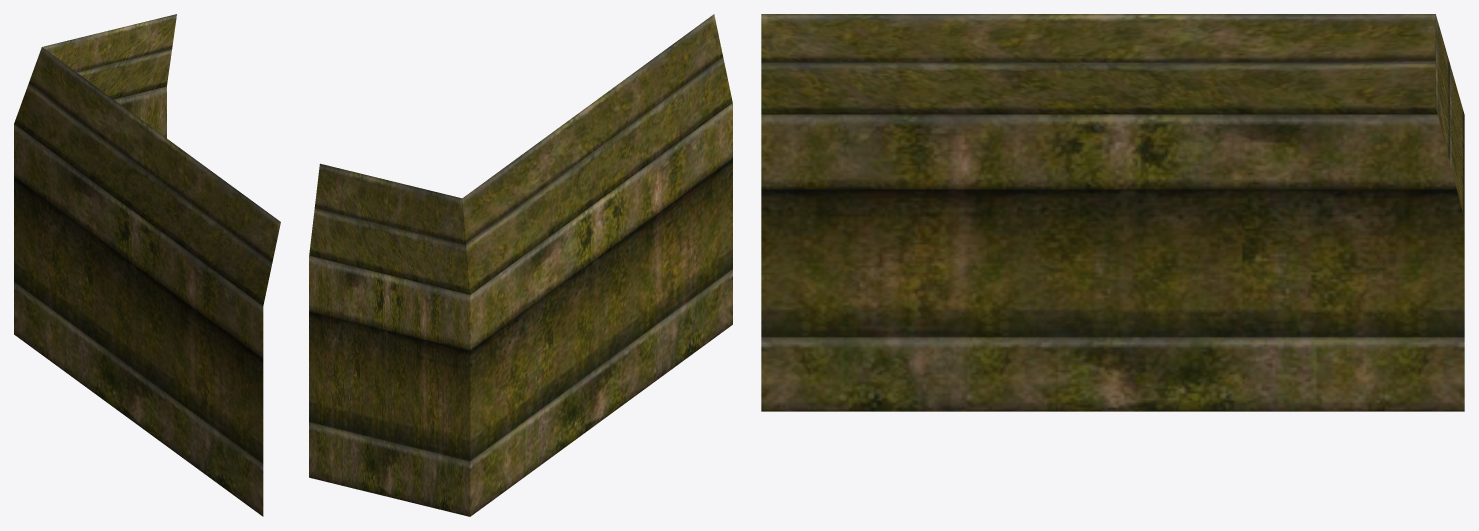
File: OVERHILL_A_01_OBJECT83.fbx
The picture shows the model from 3 angles, left to right: view 1: azimuth 30°, elevation 25°; view 2: azimuth 150°, elevation 25°; view 3: azimuth 270°, elevation 25°; orthographic projection. The views are drawn at different scales.
Visible parts, largest first — view 1: OVERHILL_A_01_OBJECT83; view 2: OVERHILL_A_01_OBJECT83; view 3: OVERHILL_A_01_OBJECT83.
Part boxes in pixels (x1,y1,x2,y2): OVERHILL_A_01_OBJECT83: (14,14,280,516); OVERHILL_A_01_OBJECT83: (309,14,732,516); OVERHILL_A_01_OBJECT83: (761,14,1464,411).
Size of the model in its own units: 8649 by 15713 by 24430.
2 materials, 2 textured.
